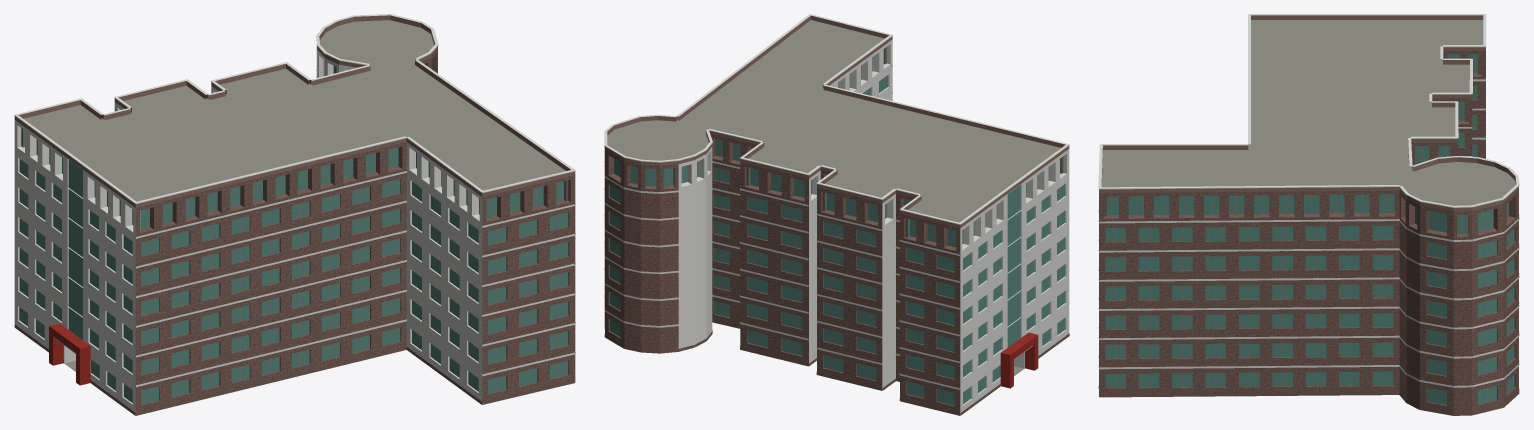
The picture shows the model from 3 angles, left to right: view 1: azimuth 30°, elevation 25°; view 2: azimuth 150°, elevation 25°; view 3: azimuth 270°, elevation 25°; orthographic projection. The views are drawn at different scales.
Parts seen in each view (by area): view 1: artHall__wall, artHall__roof, artHall__glass, artHall__wall2, artHall__trim, artHall__parapet, artHall__frame, artHall__base, artHall__accent; view 2: artHall__wall, artHall__roof, artHall__wall2, artHall__glass, artHall__trim, artHall__parapet, artHall__frame, artHall__base, artHall__accent; view 3: artHall__wall, artHall__roof, artHall__glass, artHall__trim, artHall__parapet, artHall__frame, artHall__base.
Boxes of the visible parts, x1,y1,x2,y2 form: artHall__wall: (21,49,575,415); artHall__roof: (23,20,565,371); artHall__glass: (19,66,568,404); artHall__wall2: (14,45,482,415); artHall__trim: (14,14,575,387); artHall__parapet: (14,15,575,207); artHall__frame: (24,149,560,402); artHall__base: (14,325,575,415); artHall__accent: (49,323,90,385); artHall__wall: (604,47,1063,415); artHall__roof: (607,20,1060,376); artHall__wall2: (678,39,1069,415); artHall__glass: (610,48,1064,405); artHall__trim: (604,14,1069,389); artHall__parapet: (605,15,1069,228); artHall__frame: (615,77,1060,403); artHall__base: (604,319,1069,415); artHall__accent: (1000,332,1038,388); artHall__wall: (1099,51,1518,415); artHall__roof: (1101,20,1515,205); artHall__glass: (1105,54,1514,404); artHall__trim: (1098,14,1519,387); artHall__parapet: (1099,15,1518,211); artHall__frame: (1111,54,1510,403); artHall__base: (1098,386,1519,415).
Bounding box in the file's own units: 53.92 × 26.5 × 48.44.
11 materials, 1 textured.
